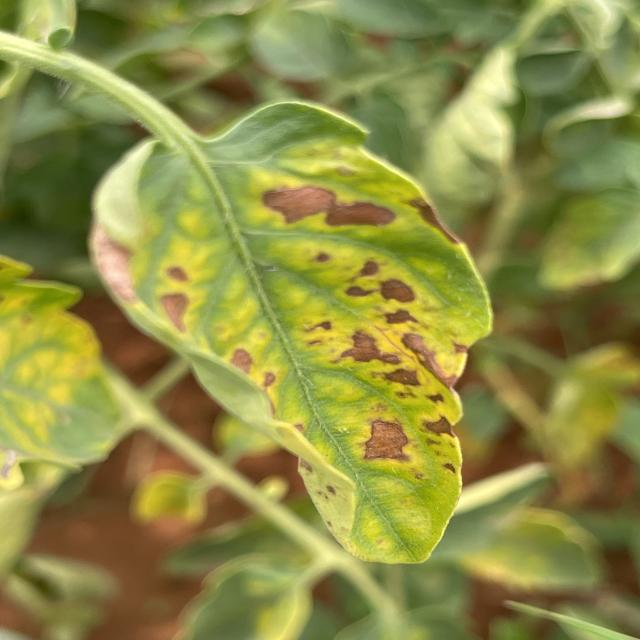tomato_early blight: (89, 100, 487, 565), (0, 248, 147, 473), (462, 497, 607, 594), (544, 337, 640, 464), (538, 192, 640, 289)
